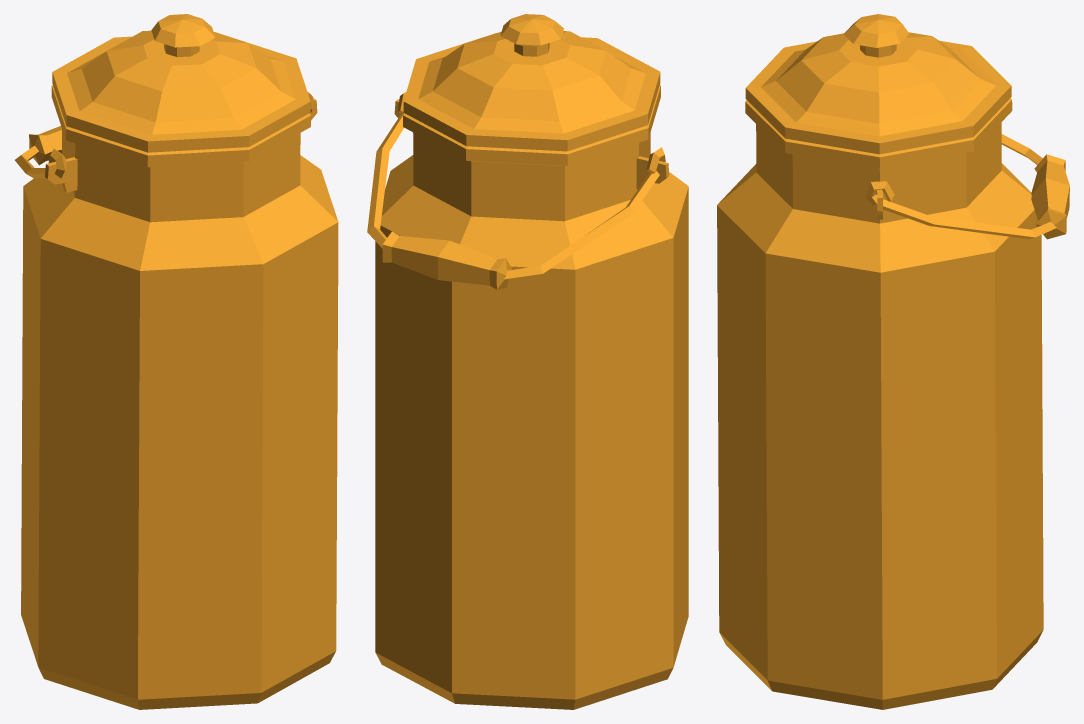
File: SM_Jug_Milk_Metal_A.fbx
The picture shows the model from 3 angles, left to right: view 1: azimuth 30°, elevation 25°; view 2: azimuth 150°, elevation 25°; view 3: azimuth 270°, elevation 25°; orthographic projection.
Parts seen in each view (by area): view 1: milk-jug-metal-a-base, milk-jug-metal-a-lid, milk-jug-metal-a-handle; view 2: milk-jug-metal-a-base, milk-jug-metal-a-lid, milk-jug-metal-a-handle; view 3: milk-jug-metal-a-base, milk-jug-metal-a-lid, milk-jug-metal-a-handle.
Boxes of the visible parts, left/top/right/bottom form: milk-jug-metal-a-base: left=21, top=85, right=338, bottom=709; milk-jug-metal-a-lid: left=52, top=14, right=310, bottom=152; milk-jug-metal-a-handle: left=15, top=92, right=313, bottom=178; milk-jug-metal-a-base: left=375, top=85, right=688, bottom=709; milk-jug-metal-a-lid: left=403, top=14, right=660, bottom=151; milk-jug-metal-a-handle: left=367, top=91, right=665, bottom=289; milk-jug-metal-a-base: left=717, top=98, right=1043, bottom=709; milk-jug-metal-a-lid: left=745, top=14, right=1011, bottom=154; milk-jug-metal-a-handle: left=865, top=134, right=1069, bottom=239.
Size of the model in its own units: 0.1996 by 0.4229 by 0.2163.
